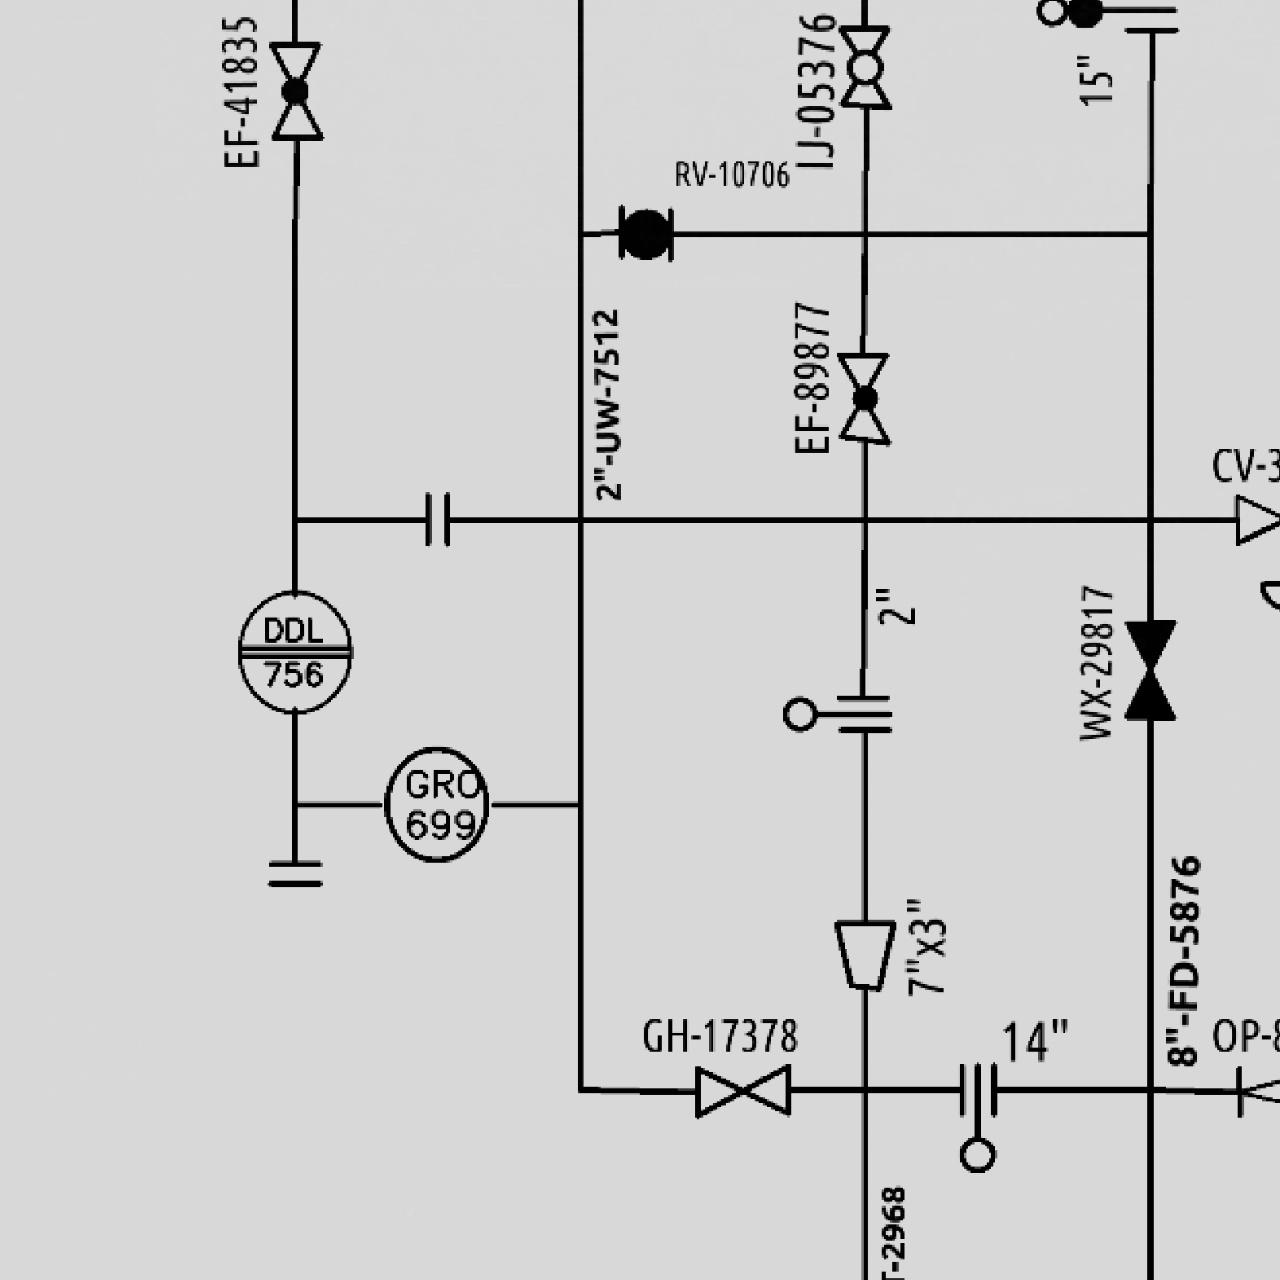Control-Panel: (224, 584, 358, 719)
